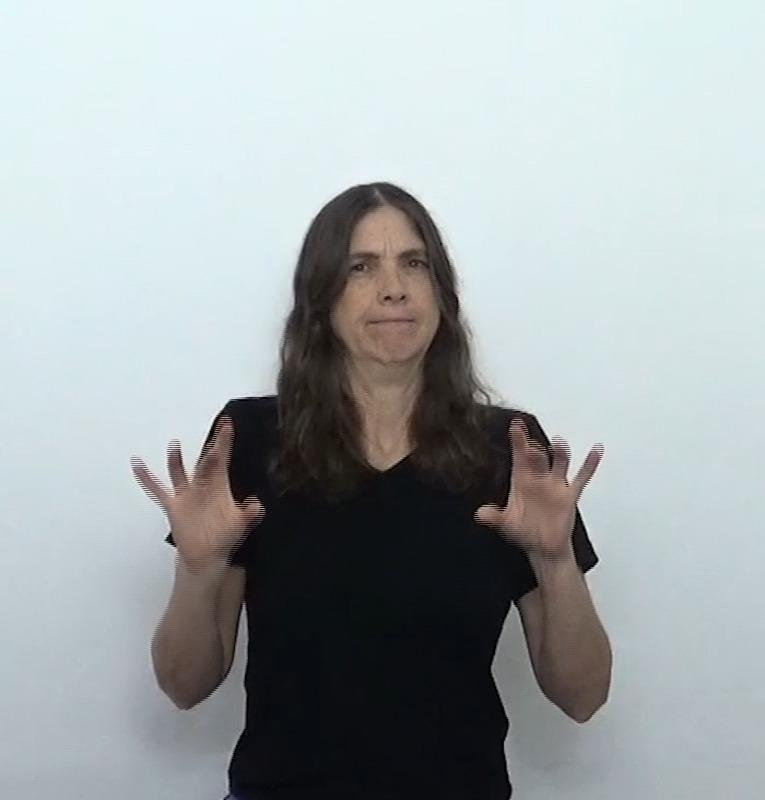Dolor: (84, 134, 653, 739)
